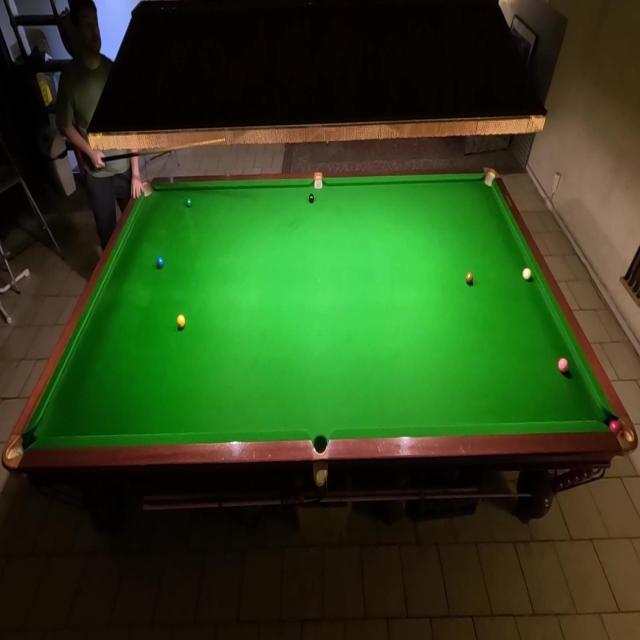Ball: (608, 421, 620, 434), (558, 358, 568, 373), (177, 314, 186, 329), (522, 268, 532, 280), (466, 272, 474, 286), (156, 256, 164, 268), (308, 194, 314, 204), (186, 197, 192, 207)
